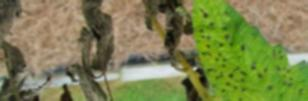Tomato Septoria leaf spot: (185, 0, 308, 101)
